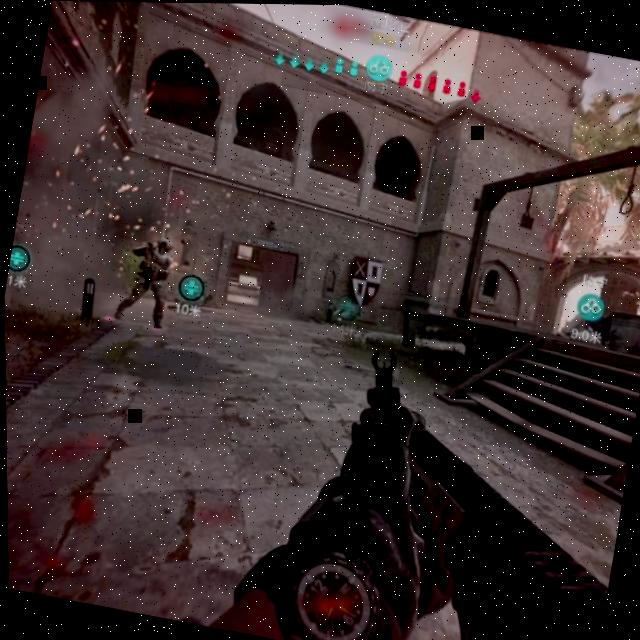MW2_body: (113, 231, 178, 334)
